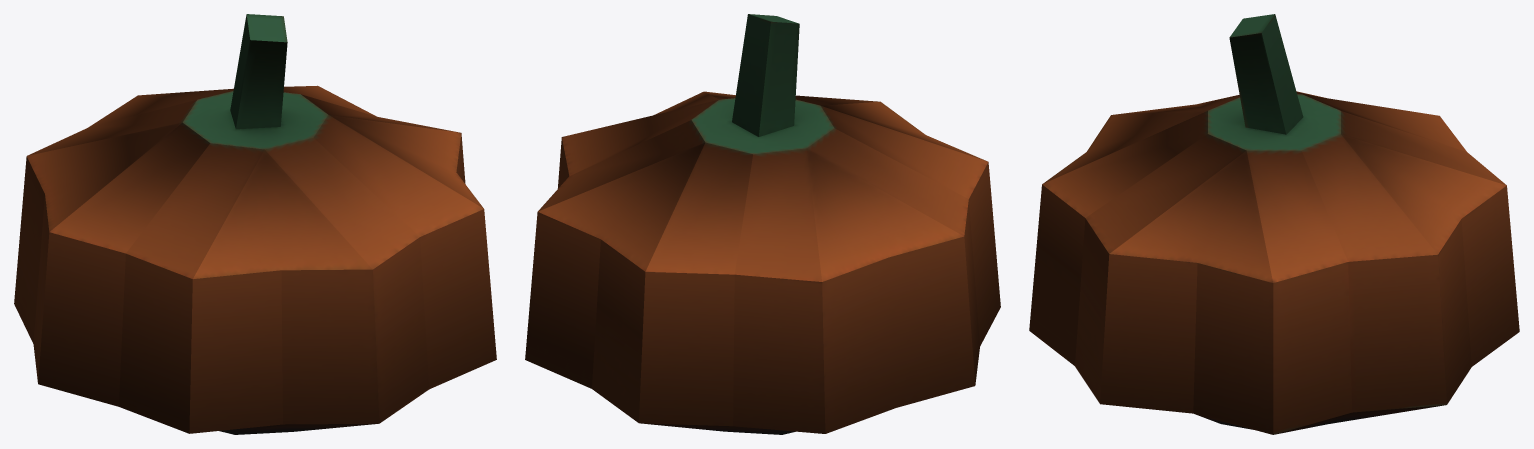
The model's file is pumpkin_spawn_lod1.fbx.
The picture shows the model from 3 angles, left to right: view 1: azimuth 30°, elevation 25°; view 2: azimuth 150°, elevation 25°; view 3: azimuth 270°, elevation 25°; orthographic projection. The views are drawn at different scales.
Visible parts, largest first — view 1: Pumpkin_lod1; view 2: Pumpkin_lod1; view 3: Pumpkin_lod1.
Boxes of the visible parts, x1,y1,x2,y2 form: Pumpkin_lod1: (14,14,496,434); Pumpkin_lod1: (525,14,1000,434); Pumpkin_lod1: (1029,14,1519,434).
Size of the model in its own units: 0.0062 by 0.00535 by 0.0062.
